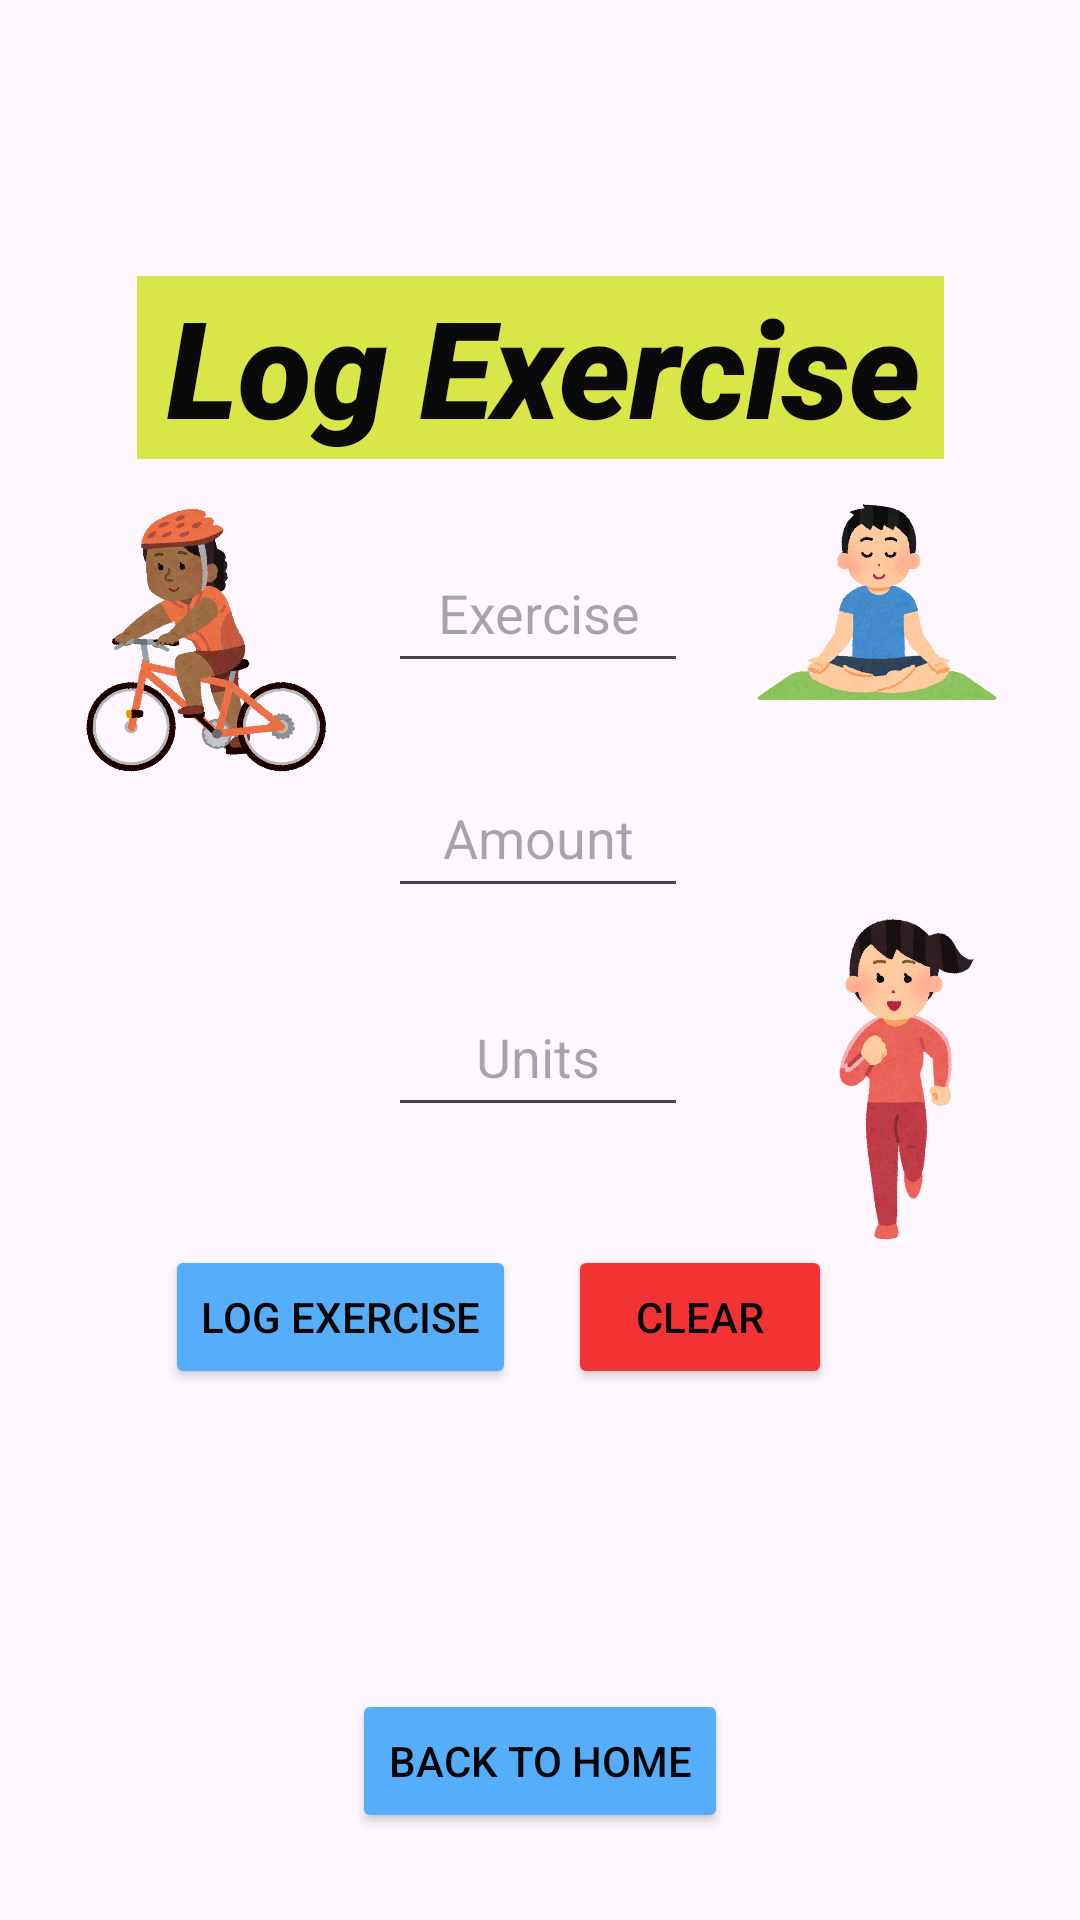

Point at icon controls on the screen. Image size 1080px×1920px, points as (x,y).
biking: (206,640)
running: (906,1079)
yoga: (877,602)
